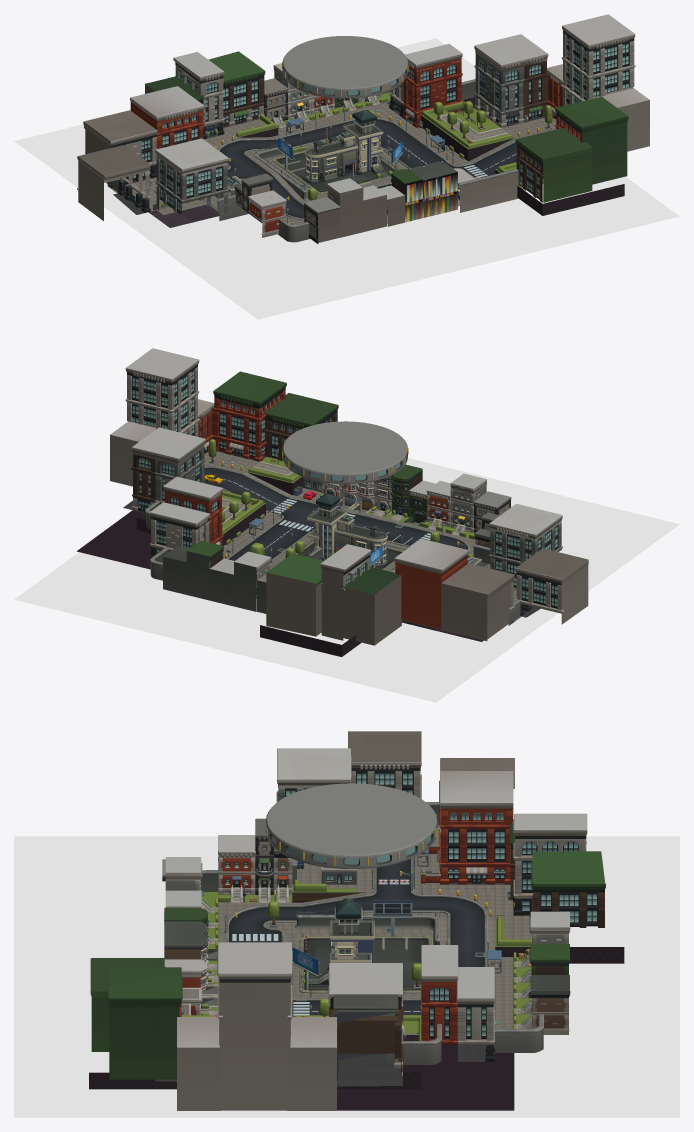
Rendered from map.glb.
3 views of the same model, one above another, from view 1: azimuth 30°, elevation 25°; view 2: azimuth 150°, elevation 25°; view 3: azimuth 270°, elevation 25° (orthographic). The views are drawn at different scales.
Parts seen in each view (by area): view 1: Minimap_StaticMeshComponent0_78, Building_10_55, Building_03_48, Building_09_54, UFO_33, Building_04_49, gbase_02_39, Building_08_53, Building_05_50, Building_12_57, gbase_03_40, Building_11_56 (+10 smaller); view 2: Minimap_StaticMeshComponent0_78, Building_05_50, Building_04_49, Building_03_48, Building_09_54, Building_10_55, UFO_33, Building_06_51, gbase_02_39, Building_07_52, gbase_03_40, Building_12_57 (+10 smaller); view 3: Minimap_StaticMeshComponent0_78, Building_09_54, UFO_33, gbase_01_38, Building_10_55, Building_04_49, Building_05_50, Building_08_53, Building_07_52, gbase_02_39, Building_03_48, ground_44 (+13 smaller).
Boxes of the visible parts, box(x1,y1,x2,y2) form: Minimap_StaticMeshComponent0_78: box(14, 38, 679, 319); Building_10_55: box(515, 96, 628, 202); Building_03_48: box(77, 138, 228, 220); Building_09_54: box(547, 14, 649, 151); UFO_33: box(282, 36, 408, 98); Building_04_49: box(83, 86, 204, 193); gbase_02_39: box(254, 102, 488, 224); Building_08_53: box(474, 34, 548, 127); Building_05_50: box(145, 51, 265, 139); Building_12_57: box(278, 178, 404, 243); gbase_03_40: box(421, 108, 624, 215); Building_11_56: box(390, 161, 518, 222); Minimap_StaticMeshComponent0_78: box(14, 458, 679, 702); Building_05_50: box(266, 544, 401, 645); Building_04_49: box(394, 538, 520, 640); Building_03_48: box(489, 503, 588, 624); Building_09_54: box(110, 348, 214, 486); Building_10_55: box(212, 371, 338, 461); UFO_33: box(282, 421, 408, 484); Building_06_51: box(150, 540, 271, 613); gbase_02_39: box(209, 488, 475, 588); Building_07_52: box(145, 476, 223, 559); gbase_03_40: box(136, 451, 303, 545); Building_12_57: box(403, 473, 511, 539); Minimap_StaticMeshComponent0_78: box(14, 836, 679, 1117); Building_09_54: box(177, 942, 336, 1110); UFO_33: box(266, 783, 436, 868); gbase_01_38: box(292, 822, 624, 963); Building_10_55: box(90, 958, 182, 1081); Building_04_49: box(426, 758, 514, 884); Building_05_50: box(509, 813, 605, 927); Building_08_53: box(328, 963, 403, 1086); Building_07_52: box(386, 945, 494, 1064); gbase_02_39: box(218, 902, 513, 1034); Building_03_48: box(276, 731, 421, 802); ground_44: box(337, 829, 514, 1110).
Bounding box in the file's own units: 166 × 39.36 × 144.
Materials: 9 (5 with a texture image).
